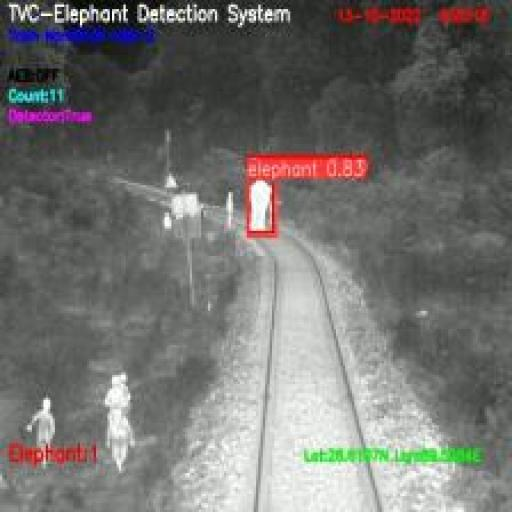Elephant: (247, 178, 275, 238)
